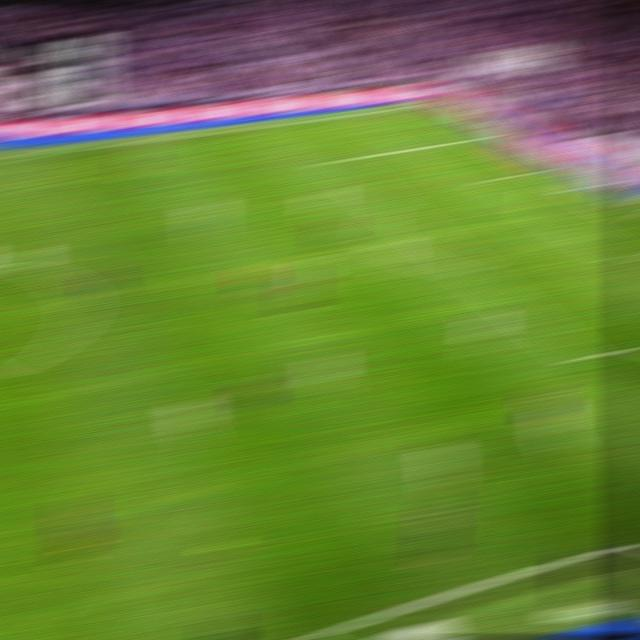bigarea_bottom_inner: (568, 347, 597, 369)
bigarea_top_inner: (320, 154, 345, 165)
bottom_arc_area_intersection: (457, 262, 485, 278)
corner: (406, 100, 432, 108)
smallarea_bottom_inner: (608, 248, 636, 263)
smallarea_top_inner: (478, 174, 504, 184)
top_arc_area_intersection: (374, 197, 400, 209)
